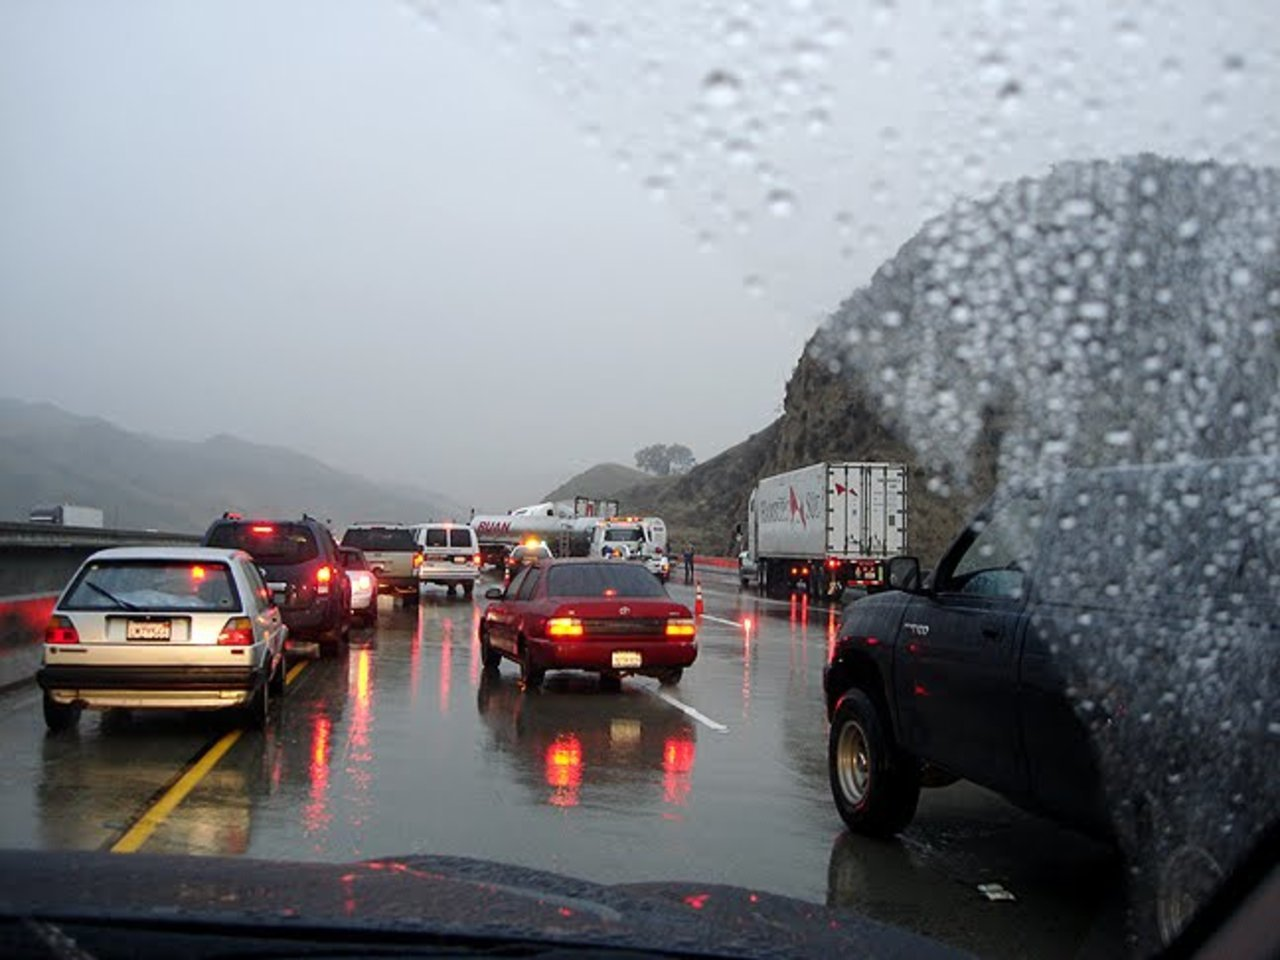car: (820, 454, 1266, 938), (35, 548, 285, 731), (479, 555, 701, 691), (203, 514, 358, 653), (344, 522, 424, 606), (419, 524, 477, 597), (334, 550, 378, 630)
truck: (734, 462, 910, 604), (588, 520, 666, 578)
